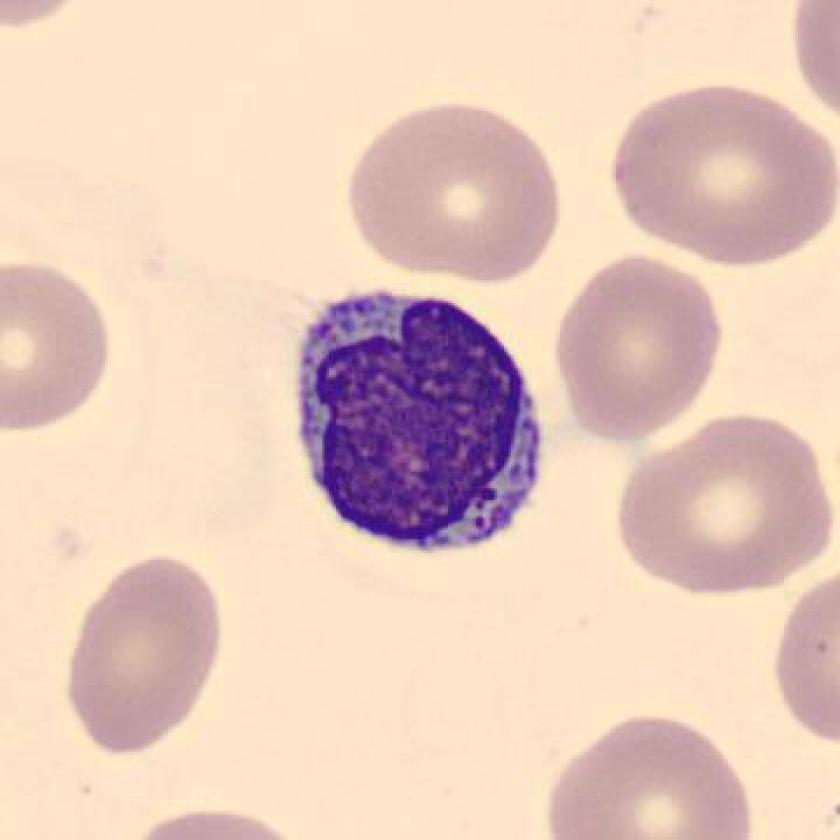lymphocyte: (283, 274, 561, 582)
